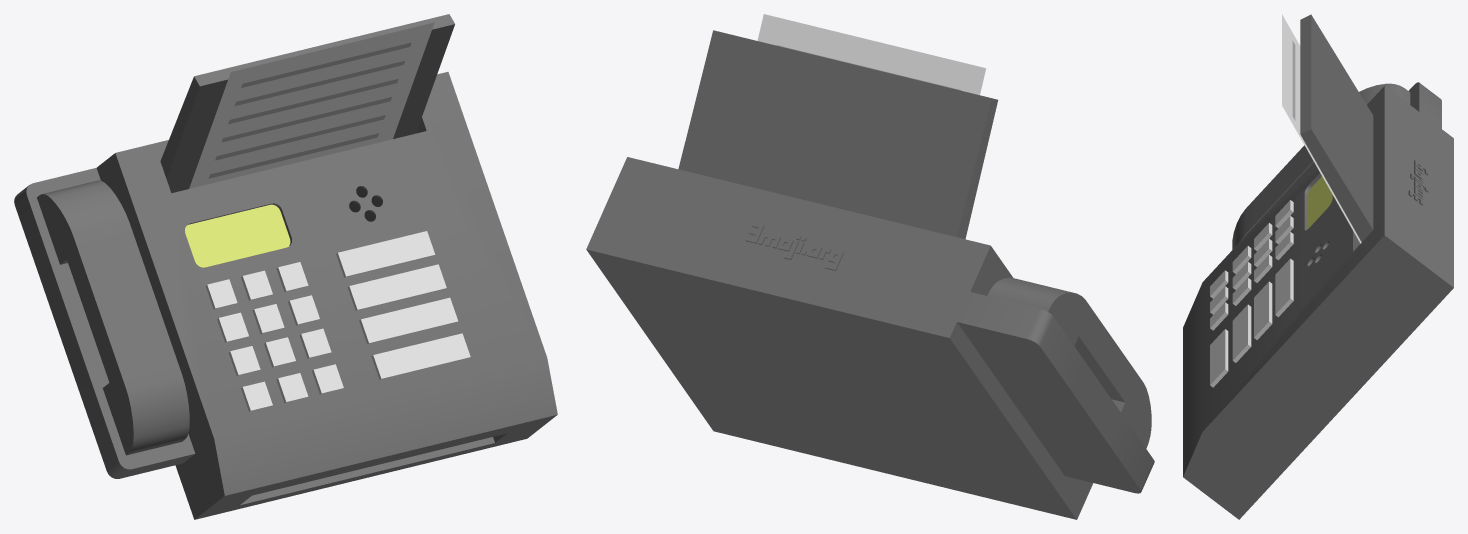
File: fax_machine.fbx
3 views of the same model, side by side, from view 1: azimuth 30°, elevation 25°; view 2: azimuth 150°, elevation 25°; view 3: azimuth 270°, elevation 25° (orthographic). The views are drawn at different scales.
Visible parts, largest first — view 1: Cube.924; view 2: Cube.924; view 3: Cube.924.
Boxes of the visible parts, left/top/right/bottom form: Cube.924: left=14, top=14, right=557, bottom=519; Cube.924: left=586, top=14, right=1154, bottom=519; Cube.924: left=1183, top=14, right=1453, bottom=519.
Size of the model in its own units: 214 by 209 by 134.
Materials: 1 (1 with a texture image).
